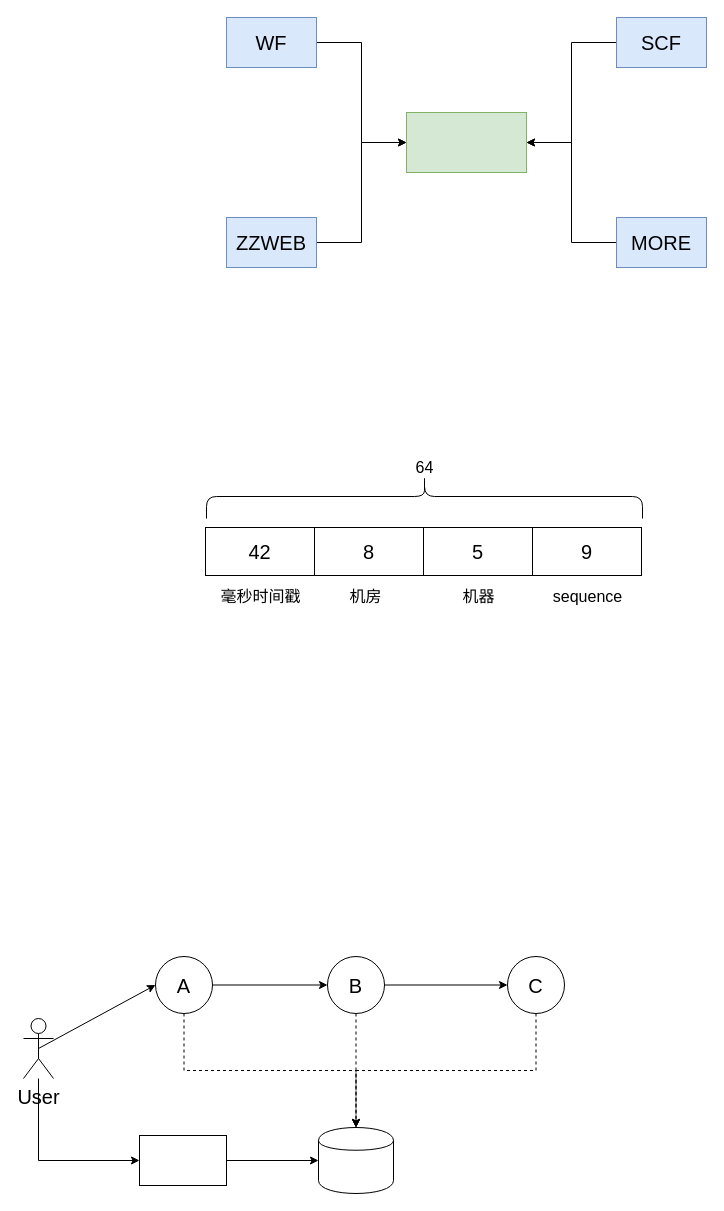
Some shapes in this 724 by 1211 pixel diagram are drawn without their labels. Here are the shapes that lost their labels. From the top down, the centre of each, then its label:
At [466,142]: "控制中心".
At [182,1160]: "WEB UI".
At [356,1160]: "DB".
